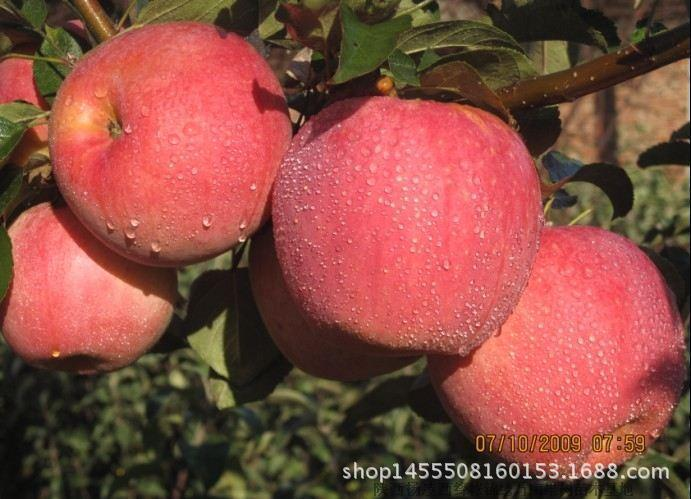apple: (269, 95, 543, 358), (440, 225, 682, 486), (46, 18, 295, 268), (2, 201, 179, 372)
